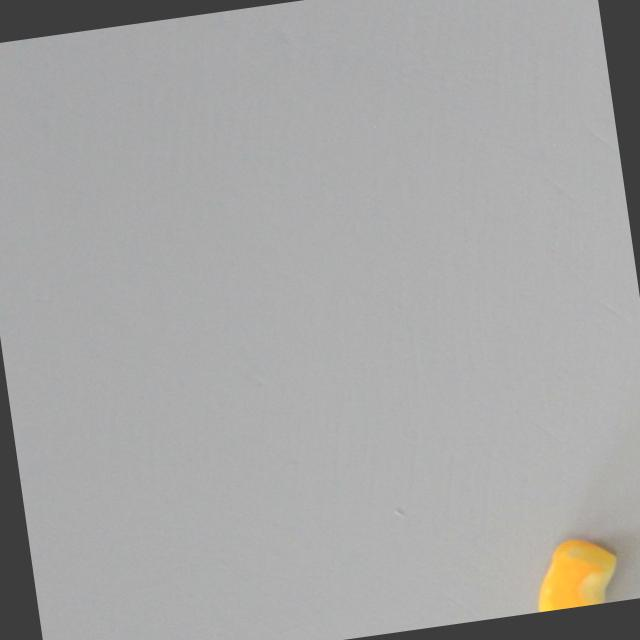no_canjicado: (527, 531, 625, 613)
